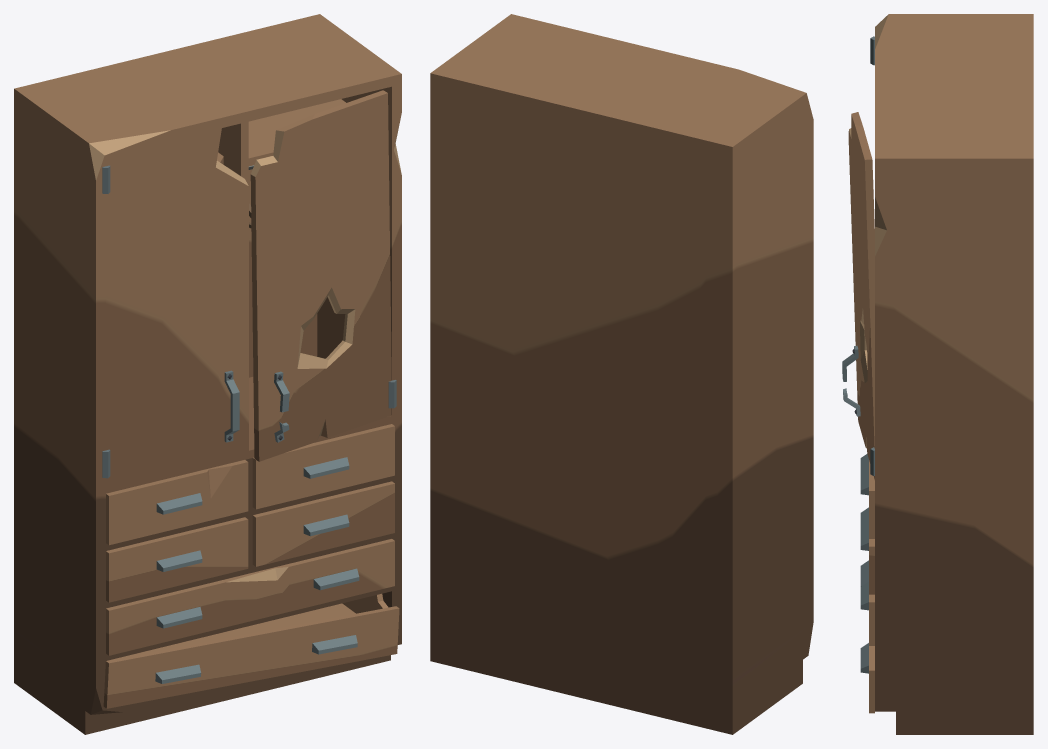
Rendered from SM_Cupboard.gltf.
3 views of the same model, side by side, from view 1: azimuth 30°, elevation 25°; view 2: azimuth 150°, elevation 25°; view 3: azimuth 270°, elevation 25° (orthographic). The views are drawn at different scales.
Visible parts, largest first — view 1: SM_Cupboard, SM_Cupboard_Door_L, SM_Cupboard_Door_R; view 2: SM_Cupboard; view 3: SM_Cupboard, SM_Cupboard_Door_R.
Boxes of the visible parts, <box> form: SM_Cupboard: <box>14,14,401,734</box>; SM_Cupboard_Door_L: <box>102,128,248,485</box>; SM_Cupboard_Door_R: <box>250,90,396,461</box>; SM_Cupboard: <box>430,14,813,734</box>; SM_Cupboard: <box>860,14,1033,734</box>; SM_Cupboard_Door_R: <box>842,112,874,479</box>.
Bounding box in the file's own units: 1.33 × 2.46 × 0.7427.
1 material, 1 textured.
